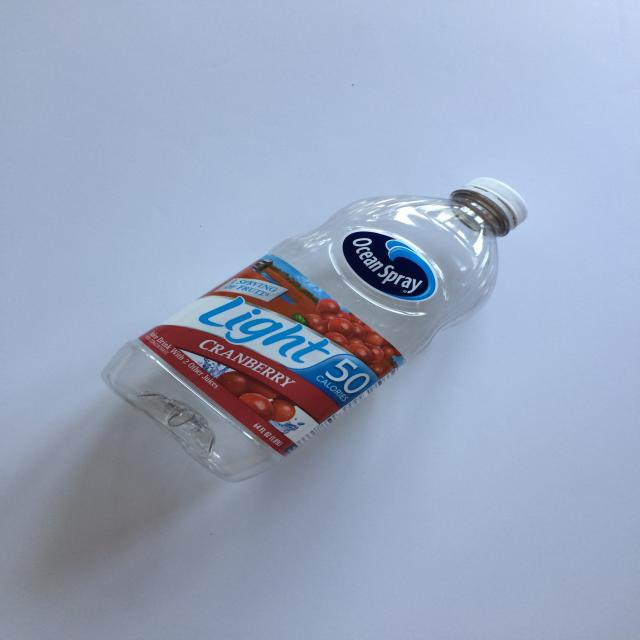plastic: (100, 175, 528, 483)
